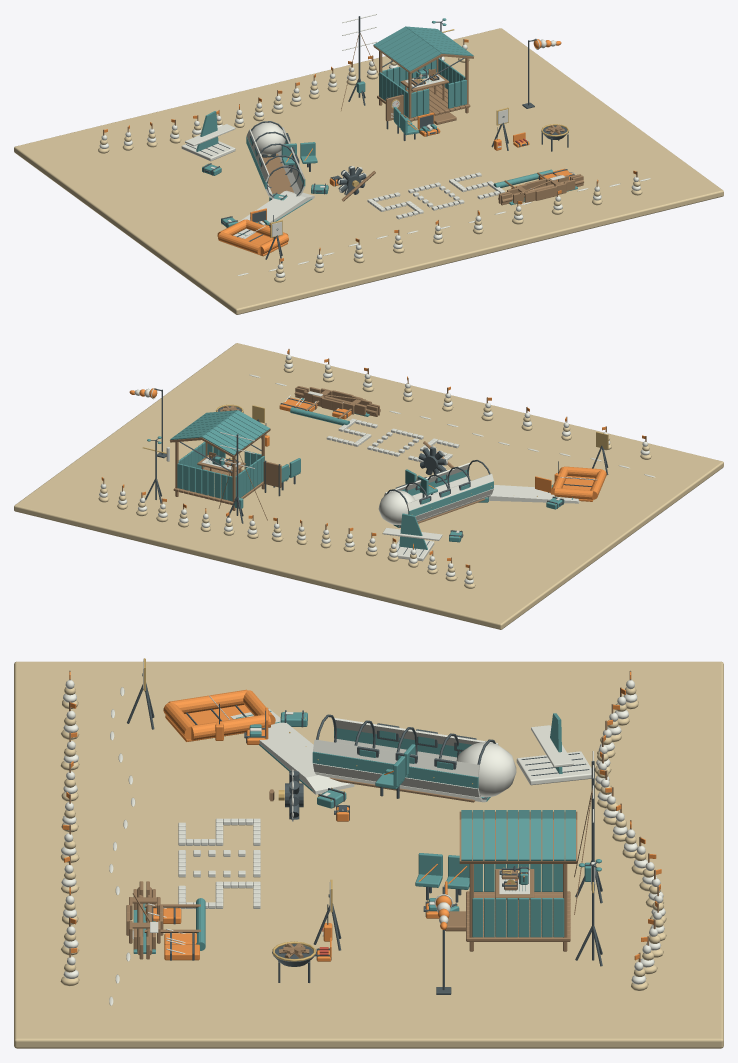
File: castaway-island-escape-castaway-rescue-b-693c467e-starter-scene__28075.glb
The picture shows the model from 3 angles, top to bottom: view 1: azimuth 30°, elevation 25°; view 2: azimuth 150°, elevation 25°; view 3: azimuth 270°, elevation 25°; orthographic projection. The views are drawn at different scales.
Parts seen in each view (by area): view 1: 000-beach-crash-site-base/beach-crash-site-base-sand, 007-abandoned-lookout-hut/abandoned-lookout-hut-teal, 001-crashed-light-aircraft-fuselage/crashed-light-aircraft-f (×3), 007-abandoned-lookout-hut/abandoned-lookout-hut-wood, 020-escape-outrigger-canoe/escape-outrigger-canoe-wood, 006-emergency-slide-raft/emergency-slide-raft-orange, 002-detached-aircraft-wing/detached-aircraft-wing-ivory, 003-broken-tail-section/broken-tail-section-ivory, 005-aircraft-seat-row/aircraft-seat-row-teal, 021-rescue-letter-s-marker/rescue-letter-s-marker-ivory, 022-rescue-letter-o-marker/rescue-letter-o-marker-ivory, 023-rescue-letter-s-marker/rescue-letter-s-marker-ivory (+1 smaller); view 2: 000-beach-crash-site-base/beach-crash-site-base-sand, 007-abandoned-lookout-hut/abandoned-lookout-hut-teal, 001-crashed-light-aircraft-fuselage/crashed-light-aircraft-f (×3), 006-emergency-slide-raft/emergency-slide-raft-orange, 020-escape-outrigger-canoe/escape-outrigger-canoe-wood, 007-abandoned-lookout-hut/abandoned-lookout-hut-wood, 002-detached-aircraft-wing/detached-aircraft-wing-ivory, 003-broken-tail-section/broken-tail-section-ivory, 003-broken-tail-section/broken-tail-section-teal, 004-exposed-radial-engine/exposed-radial-engine-iron, 022-rescue-letter-o-marker/rescue-letter-o-marker-ivory, 023-rescue-letter-s-marker/rescue-letter-s-marker-ivory; view 3: 000-beach-crash-site-base/beach-crash-site-base-sand, 001-crashed-light-aircraft-fuselage/crashed-light-aircraft-f (×3), 007-abandoned-lookout-hut/abandoned-lookout-hut-teal, 007-abandoned-lookout-hut/abandoned-lookout-hut-wood, 006-emergency-slide-raft/emergency-slide-raft-orange, 002-detached-aircraft-wing/detached-aircraft-wing-ivory, 003-broken-tail-section/broken-tail-section-ivory, 020-escape-outrigger-canoe/escape-outrigger-canoe-wood, 033-aircraft-seat-row/aircraft-seat-row-teal, 021-rescue-letter-s-marker/rescue-letter-s-marker-ivory, 023-rescue-letter-s-marker/rescue-letter-s-marker-ivory, 022-rescue-letter-o-marker/rescue-letter-o-marker-ivory (+3 smaller).
Boxes of the visible parts, x1,y1,x2,y2 form: 000-beach-crash-site-base/beach-crash-site-base-sand: (14, 28, 723, 314); 007-abandoned-lookout-hut/abandoned-lookout-hut-teal: (373, 26, 473, 117); 001-crashed-light-aircraft-fuselage/crashed-light-aircraft-f (×3): (246, 121, 305, 198); 007-abandoned-lookout-hut/abandoned-lookout-hut-wood: (373, 45, 473, 124); 020-escape-outrigger-canoe/escape-outrigger-canoe-wood: (498, 172, 583, 205); 006-emergency-slide-raft/emergency-slide-raft-orange: (217, 219, 288, 256); 002-detached-aircraft-wing/detached-aircraft-wing-ivory: (233, 190, 314, 238); 003-broken-tail-section/broken-tail-section-ivory: (181, 124, 235, 161); 005-aircraft-seat-row/aircraft-seat-row-teal: (281, 142, 317, 165); 021-rescue-letter-s-marker/rescue-letter-s-marker-ivory: (367, 192, 423, 219); 022-rescue-letter-o-marker/rescue-letter-o-marker-ivory: (408, 182, 464, 210); 023-rescue-letter-s-marker/rescue-letter-s-marker-ivory: (449, 172, 504, 199); 000-beach-crash-site-base/beach-crash-site-base-sand: (14, 343, 723, 629); 007-abandoned-lookout-hut/abandoned-lookout-hut-teal: (170, 410, 269, 501); 001-crashed-light-aircraft-fuselage/crashed-light-aircraft-f (×3): (378, 460, 493, 527); 006-emergency-slide-raft/emergency-slide-raft-orange: (550, 466, 606, 501); 020-escape-outrigger-canoe/escape-outrigger-canoe-wood: (294, 386, 380, 418); 007-abandoned-lookout-hut/abandoned-lookout-hut-wood: (170, 428, 270, 510); 002-detached-aircraft-wing/detached-aircraft-wing-ivory: (489, 485, 579, 503); 003-broken-tail-section/broken-tail-section-ivory: (382, 528, 442, 561); 003-broken-tail-section/broken-tail-section-teal: (399, 513, 427, 549); 004-exposed-radial-engine/exposed-radial-engine-iron: (418, 447, 446, 474); 022-rescue-letter-o-marker/rescue-letter-o-marker-ivory: (367, 428, 423, 456); 023-rescue-letter-s-marker/rescue-letter-s-marker-ivory: (326, 418, 377, 446); 000-beach-crash-site-base/beach-crash-site-base-sand: (14, 661, 723, 1048); 001-crashed-light-aircraft-fuselage/crashed-light-aircraft-f (×3): (312, 714, 516, 802); 007-abandoned-lookout-hut/abandoned-lookout-hut-teal: (461, 810, 575, 937); 007-abandoned-lookout-hut/abandoned-lookout-hut-wood: (445, 811, 577, 951); 006-emergency-slide-raft/emergency-slide-raft-orange: (163, 689, 275, 741); 002-detached-aircraft-wing/detached-aircraft-wing-ivory: (230, 708, 354, 794); 003-broken-tail-section/broken-tail-section-ivory: (516, 725, 594, 785); 020-escape-outrigger-canoe/escape-outrigger-canoe-wood: (126, 881, 200, 959); 033-aircraft-seat-row/aircraft-seat-row-teal: (415, 853, 469, 889); 021-rescue-letter-s-marker/rescue-letter-s-marker-ivory: (178, 818, 260, 845); 023-rescue-letter-s-marker/rescue-letter-s-marker-ivory: (178, 881, 260, 908); 022-rescue-letter-o-marker/rescue-letter-o-marker-ivory: (178, 850, 260, 877).
Size of the model in its own units: 24 by 4.31 by 19.
